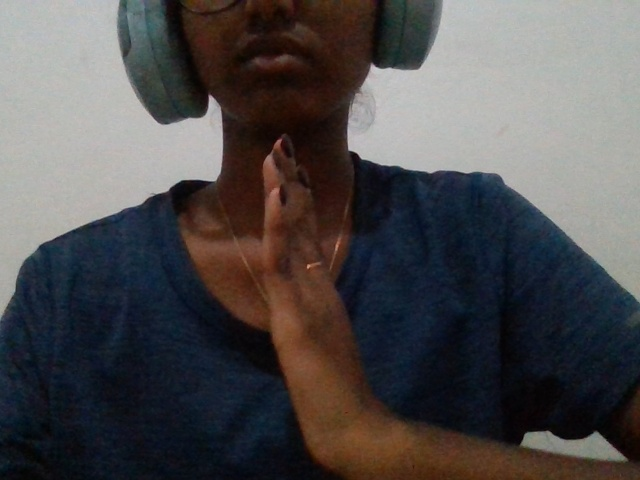Fine: (203, 101, 433, 480)
